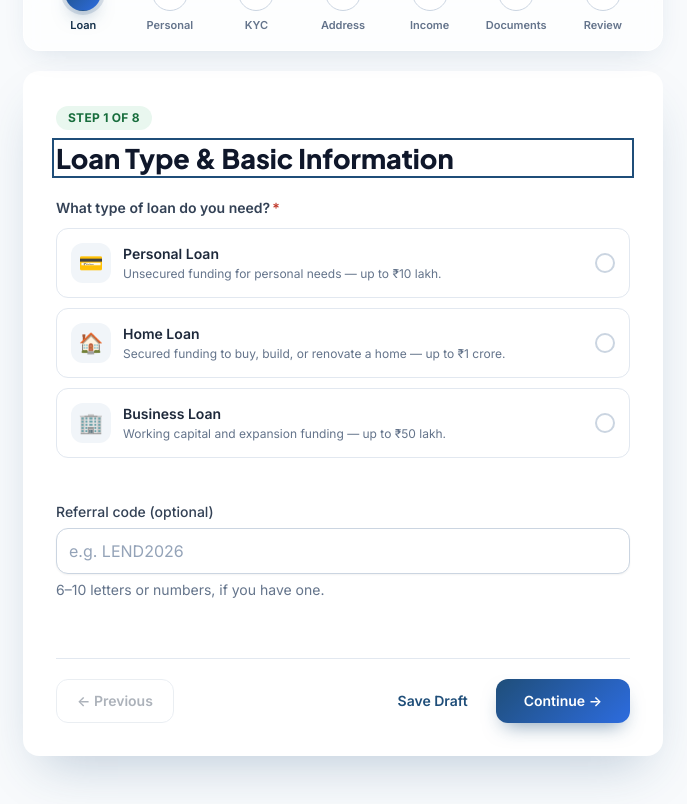
Scenario: Wizard integration › blocks advancing past step 1 until a loan type is chosen
The width and height of the screenshot is (687, 804).
(page scrolled)
Expected: the heading "Loan Type & Basic Information" is shown, [56,142,630,174]
Click the button "Continue →" at coordinates (563, 700), box [496,678,630,722]
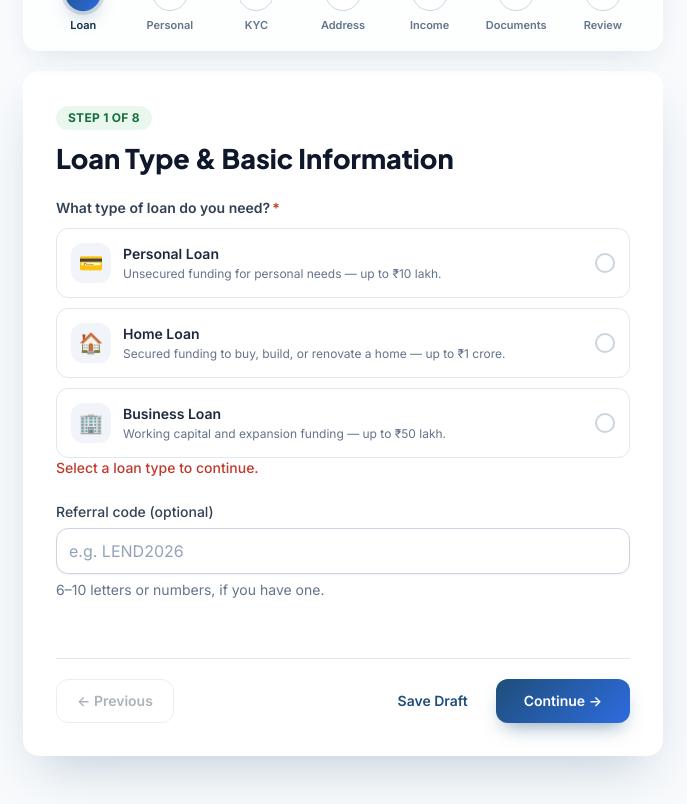
Expected: the text "Select a loan type to continue." is shown, [56,458,259,476]
